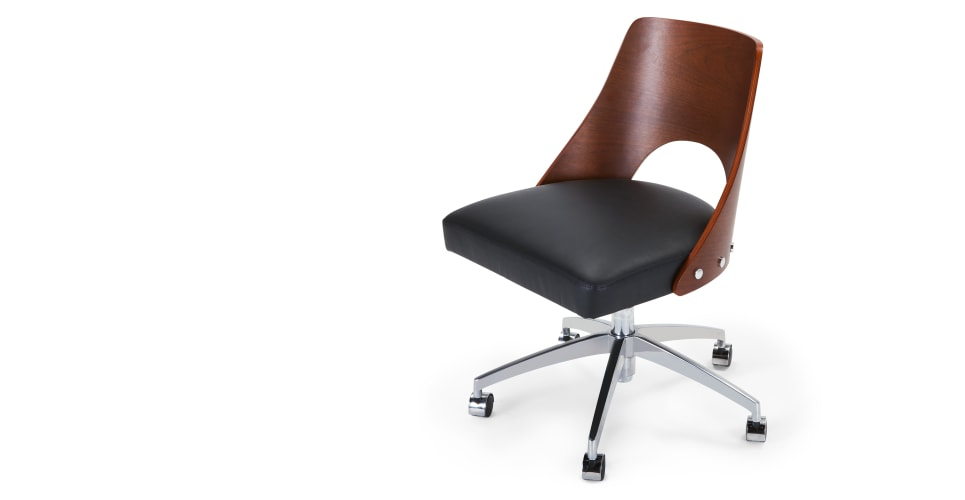chairs: (435, 18, 775, 483)
